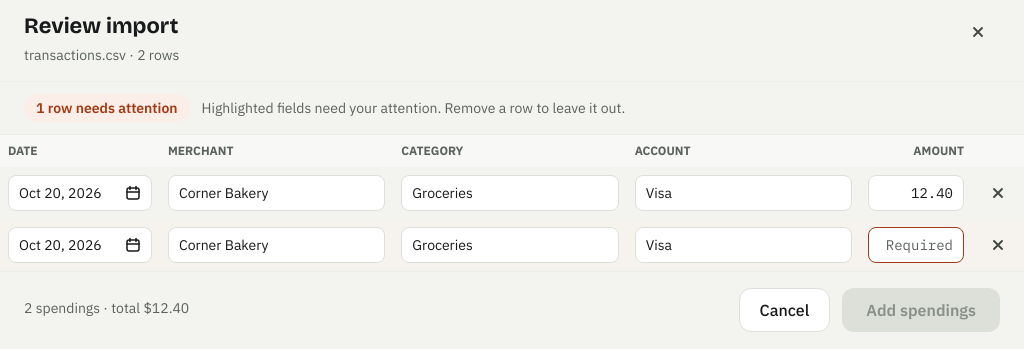
Test: ReviewStage with rows that need attention › removes rows, and blocks adding when none are left
This screenshot has width=1024, height=349.
Click the button named "Remove row 2".
click(998, 245)  # box [980,227,1016,263]
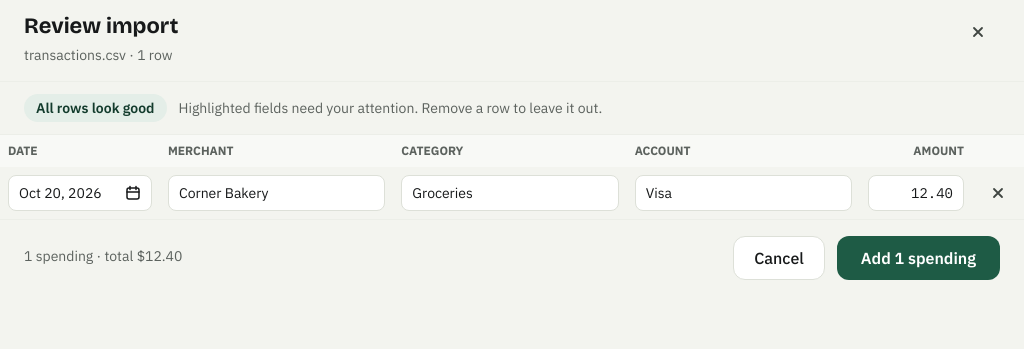
Now the text "transactions.csv · 1 row" is shown, box [24,45,178,65]
Now the button "Add 1 spending" is shown, box [837,236,1000,280]
Click the button named "Remove row 1".
click(998, 193)  # box [980,175,1016,211]
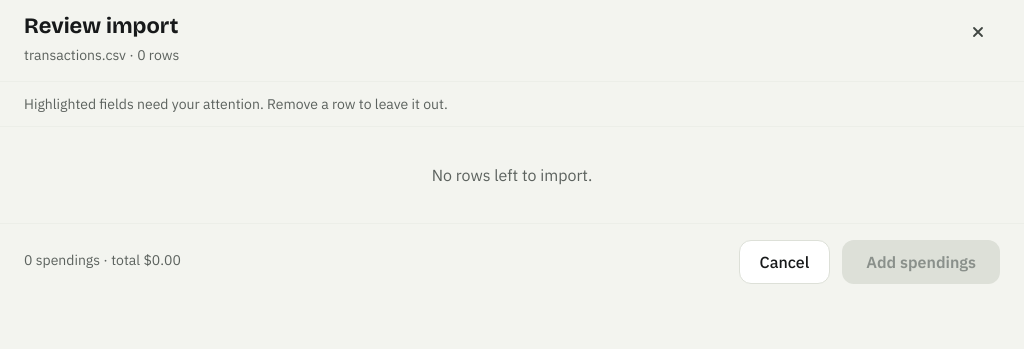
Now the text "No rows left to import." is shown, box [432,165,592,185]
Now the button "Add spendings" is shown, box [842,240,1000,284]
Now the button "Add spendings" is disabled, box [842,240,1000,284]
